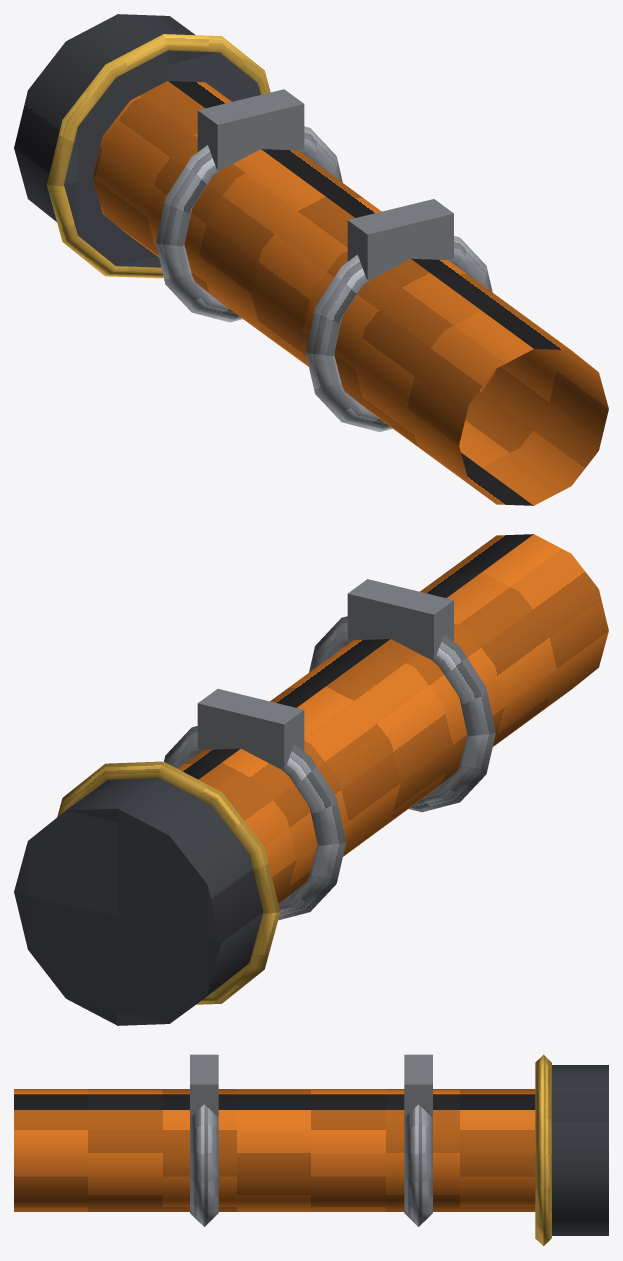
File: power_cable_arm.obj
3 views of the same model, one above another, from view 1: azimuth 30°, elevation 25°; view 2: azimuth 150°, elevation 25°; view 3: azimuth 270°, elevation 25° (orthographic). The views are drawn at different scales.
Size of the model in its own units: 0.162 by 0.162 by 0.5.
